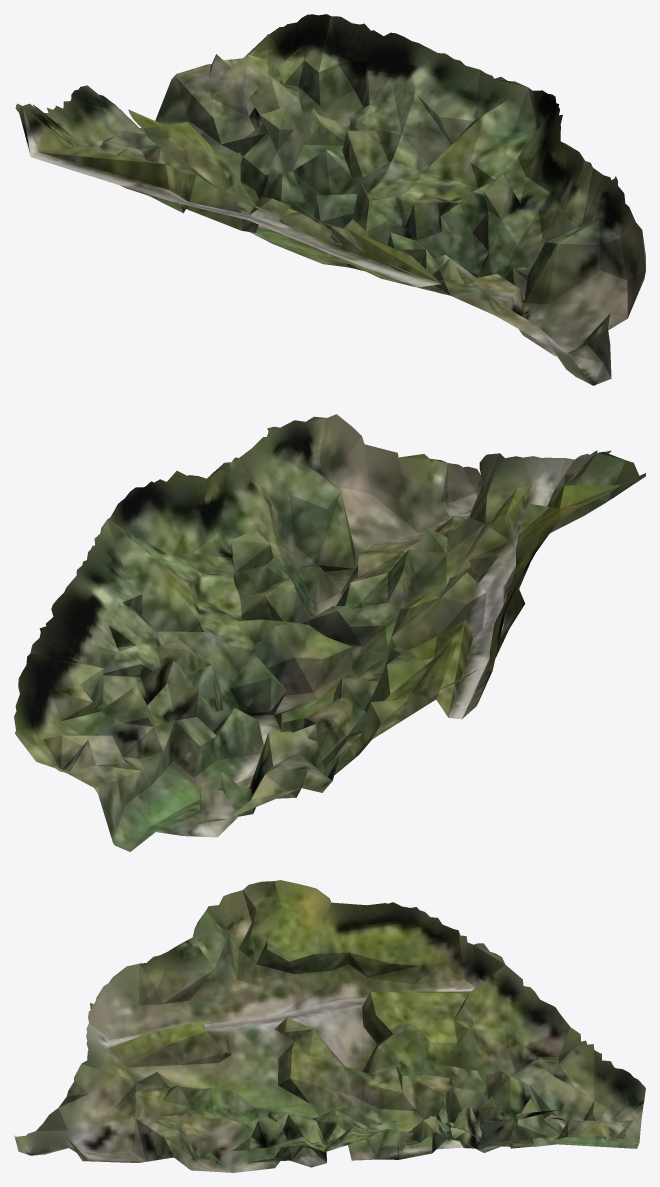
The picture shows the model from 3 angles, top to bottom: view 1: azimuth 30°, elevation 25°; view 2: azimuth 150°, elevation 25°; view 3: azimuth 270°, elevation 25°; orthographic projection. The views are drawn at different scales.
Size of the model in its own units: 176 by 90.12 by 283.
2 materials, 2 textured.
